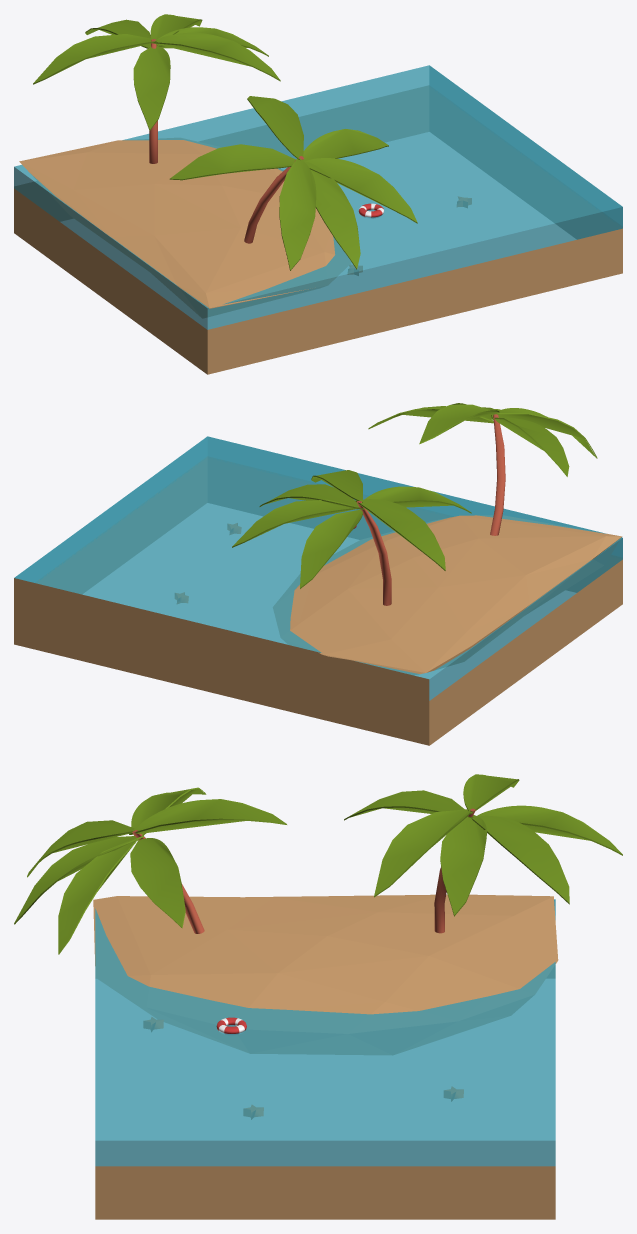
The model's file is Beach.glb.
3 views of the same model, one above another, from view 1: azimuth 30°, elevation 25°; view 2: azimuth 150°, elevation 25°; view 3: azimuth 270°, elevation 25° (orthographic). The views are drawn at different scales.
Visible parts, largest first — view 1: Box001; view 2: Box001; view 3: Box001.
Boxes of the visible parts, bbox=[...] form: Box001: bbox=[14, 14, 622, 374]; Box001: bbox=[14, 403, 622, 745]; Box001: bbox=[14, 774, 622, 1219].
Size of the model in its own units: 181 by 83.26 by 193.
Materials: 2 (2 with a texture image).
